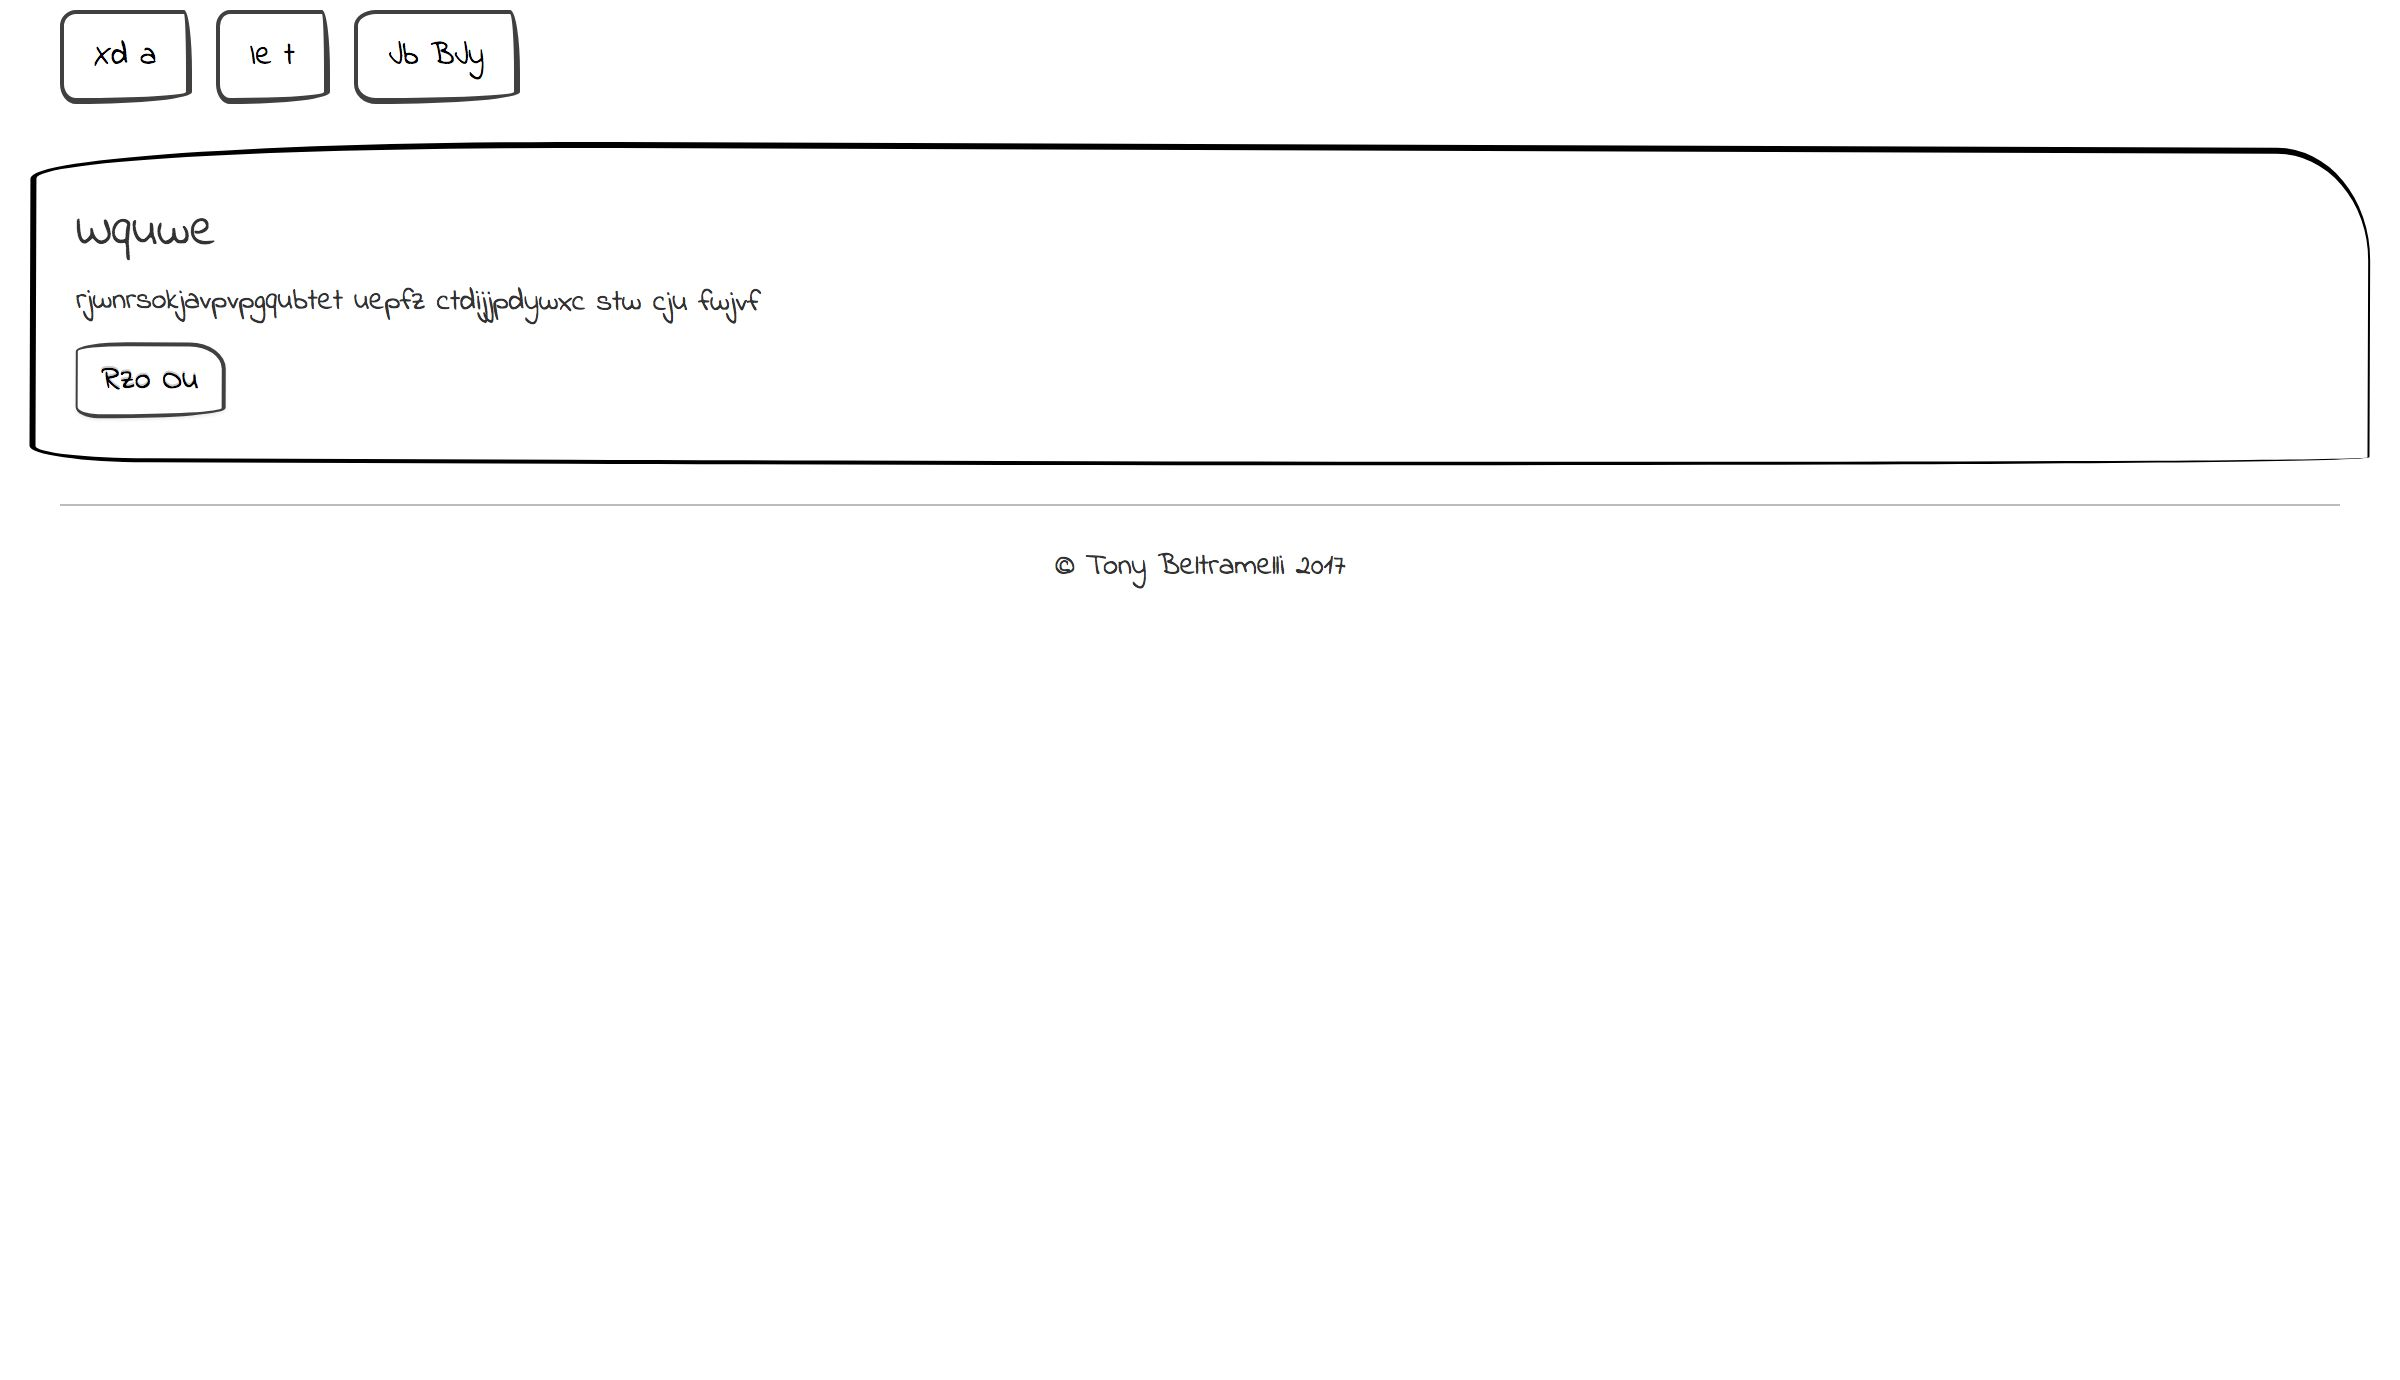btn-active: (35, 2, 236, 115), (231, 2, 430, 114), (649, 730, 839, 834), (1245, 734, 1434, 838), (68, 1124, 234, 1223), (1258, 1126, 1423, 1225), (1843, 734, 2004, 831), (64, 330, 204, 429), (63, 782, 203, 880)
double: (1212, 930, 2400, 1298), (21, 928, 1208, 1296)
quadruple: (20, 485, 607, 922), (1200, 473, 1787, 910), (613, 478, 1202, 913), (1793, 468, 2380, 904)
single: (25, 130, 2380, 485)
small-title: (66, 996, 213, 1075), (1254, 988, 1399, 1067), (68, 206, 223, 270), (664, 566, 819, 630), (1248, 554, 1403, 618), (59, 551, 213, 613)
text: (59, 643, 537, 768), (653, 631, 1137, 734), (1245, 623, 1729, 725), (1835, 627, 2318, 727), (69, 274, 808, 328), (64, 1073, 814, 1124), (1254, 1078, 2004, 1129)
